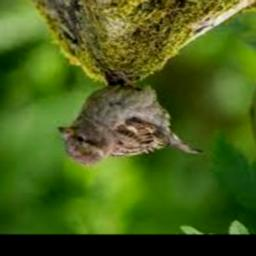Sparrow: (57, 72, 202, 168)
